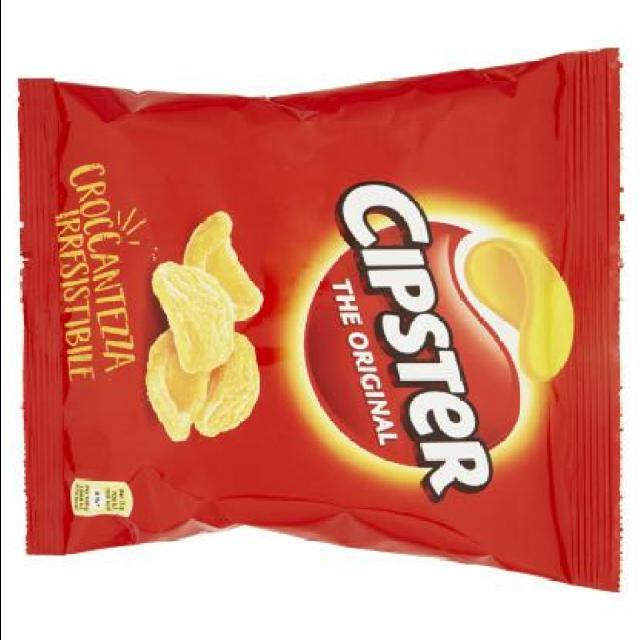Chips: (11, 34, 634, 594)
